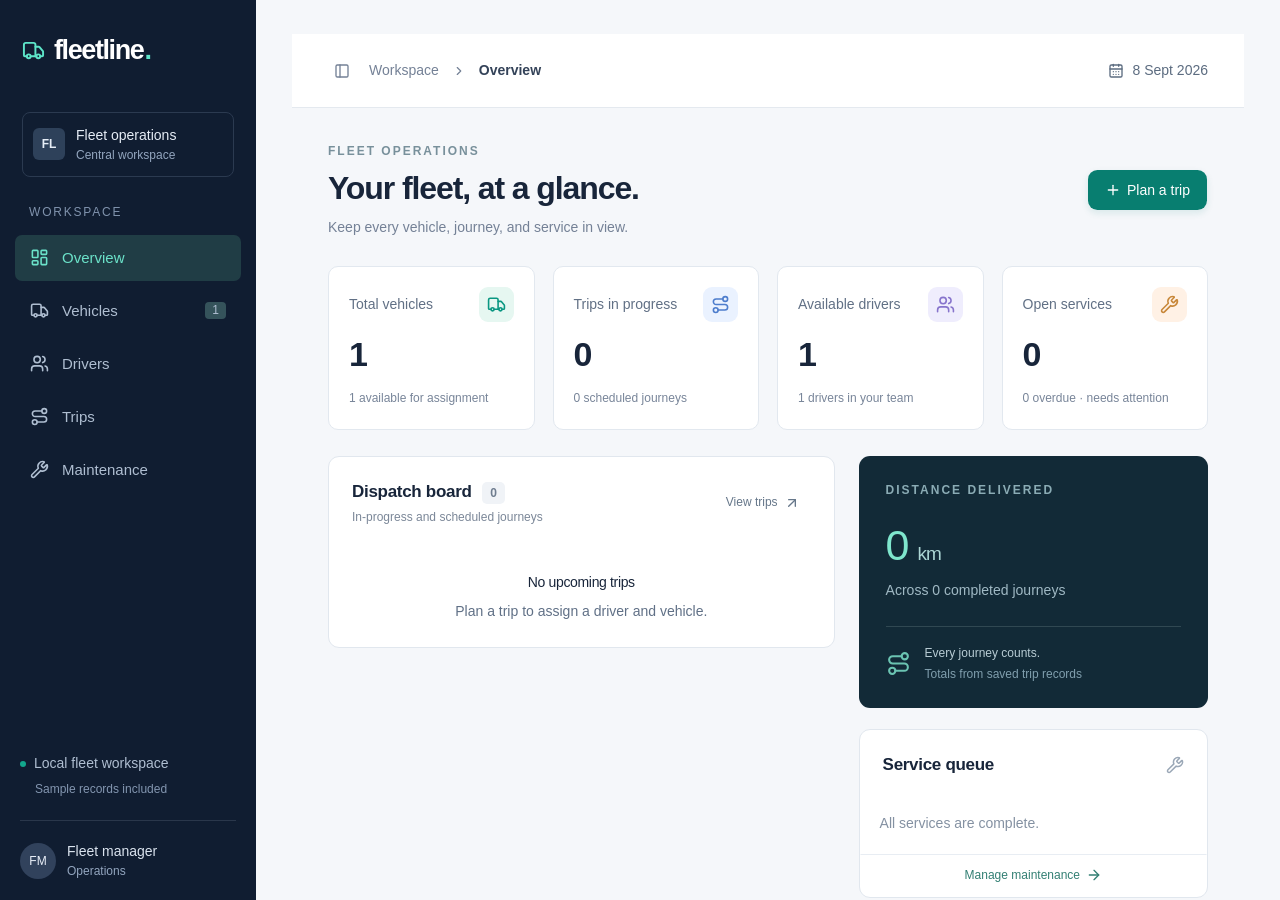
it: Fleet workflows › loads saved data and filters the vehicle table
The image size is (1280, 900).
Expected: the text "1 available for assignment" is shown, [349, 391, 488, 405]
Click the button "Vehicles 1".
click(128, 310)  # box [15, 288, 241, 334]
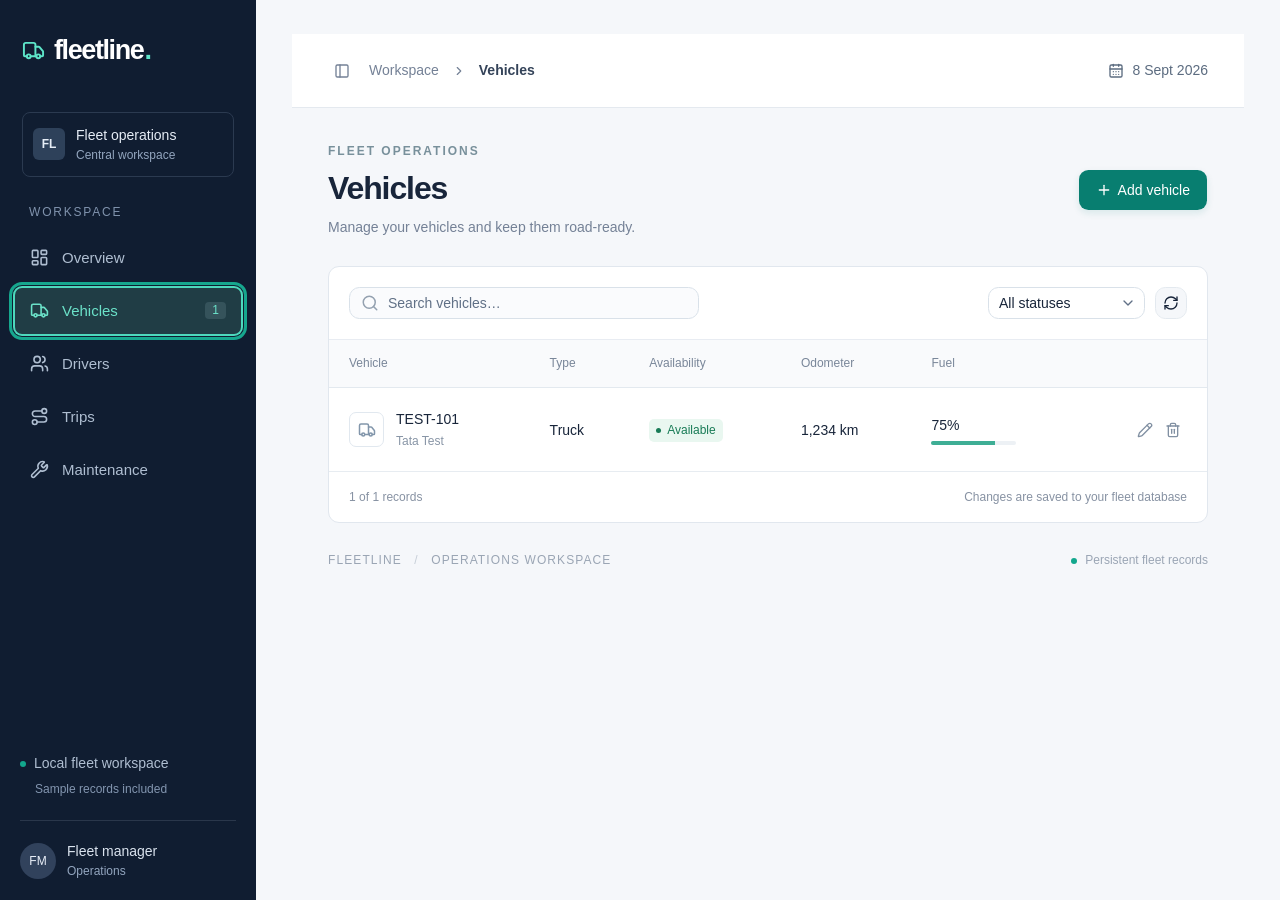
Expected: the text "TEST-101" is shown, [396, 411, 459, 427]
Type "no-match" into the field labelled "Search vehicles".
click(524, 303); type("no-match")  # box [349, 287, 699, 319]
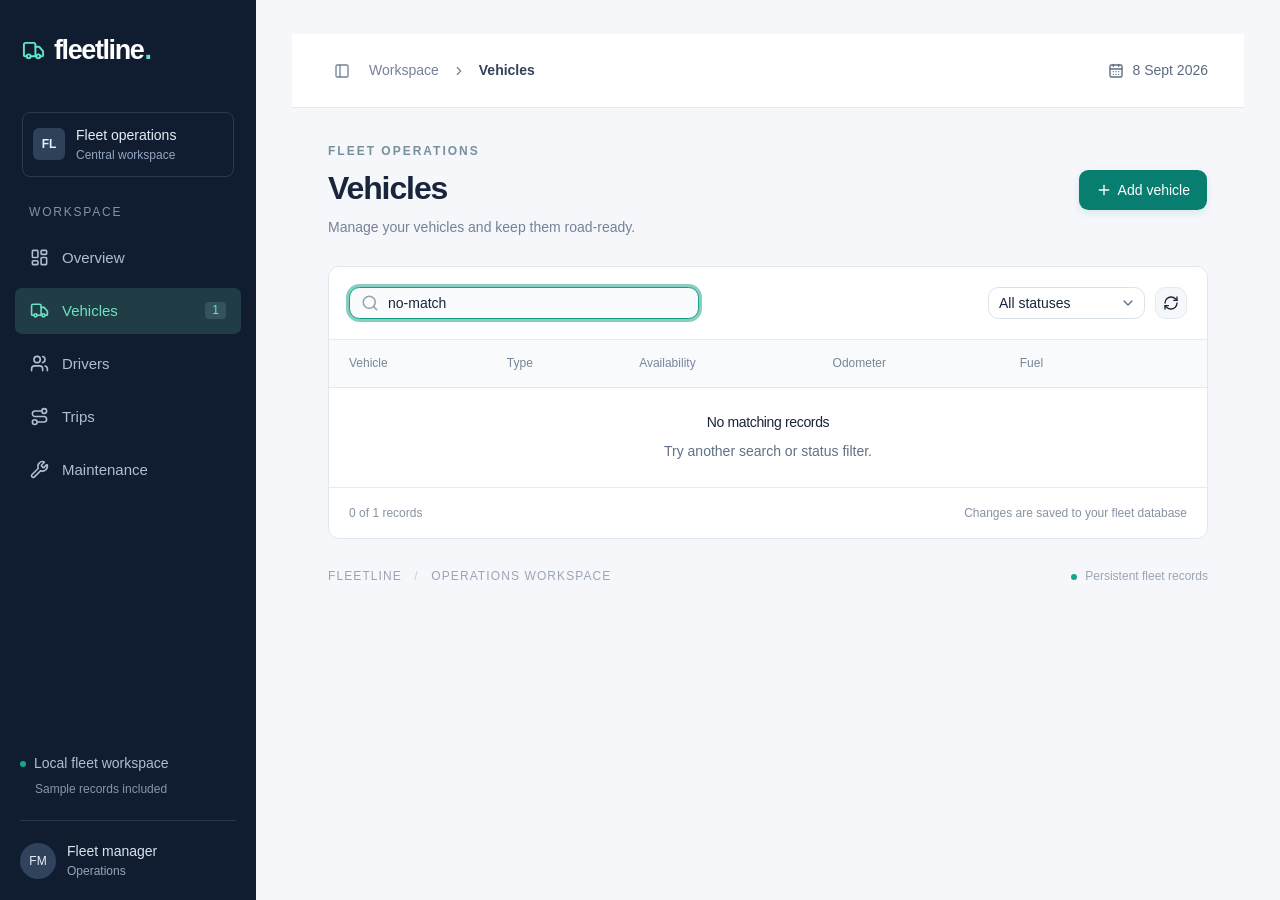
Expected: the text "No matching records" is shown, [707, 412, 829, 432]
Clear the field named "Search vehicles" at x=524, y=303, box [349, 287, 699, 319]
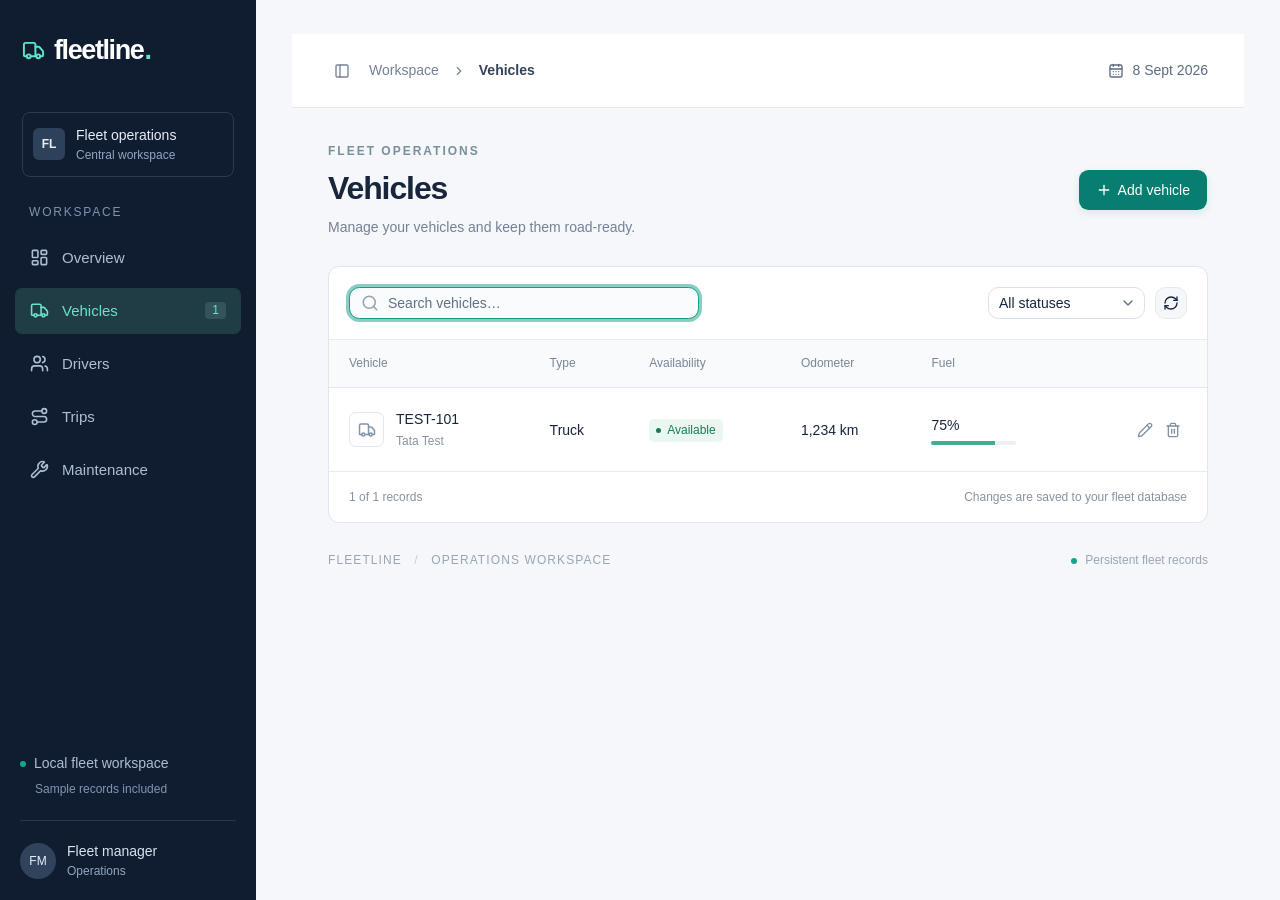
Expected: the text "TEST-101" is shown, [396, 411, 459, 427]
